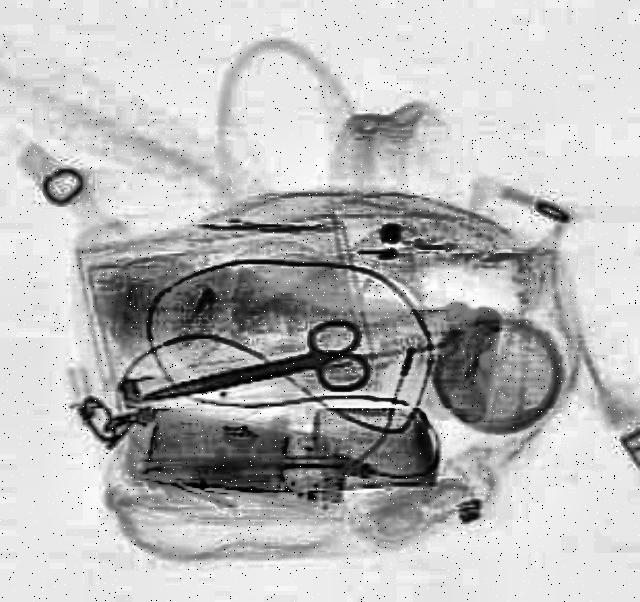Scissors: (130, 318, 370, 434)
